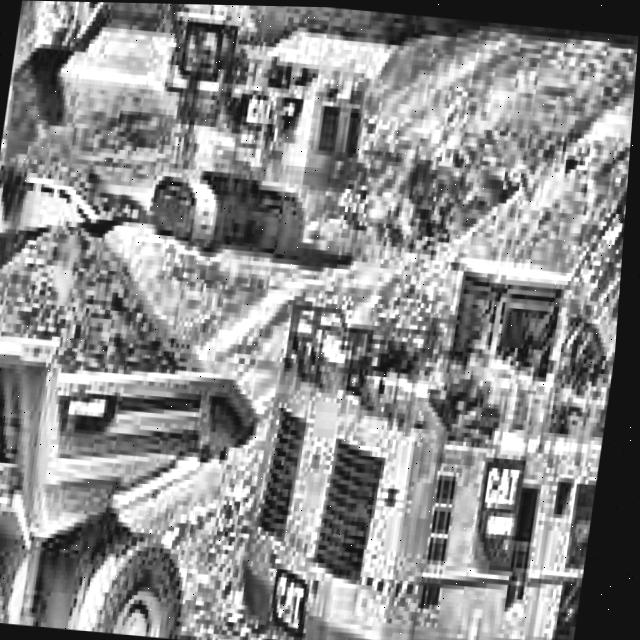dump_truck: (0, 209, 302, 640), (0, 103, 184, 384)
excavator: (231, 47, 638, 640), (0, 0, 397, 290)
